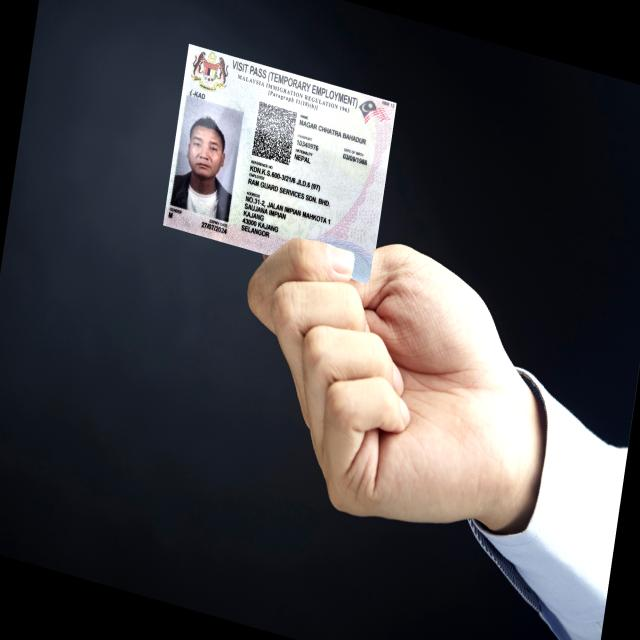ikad-temp: (162, 42, 397, 283)
